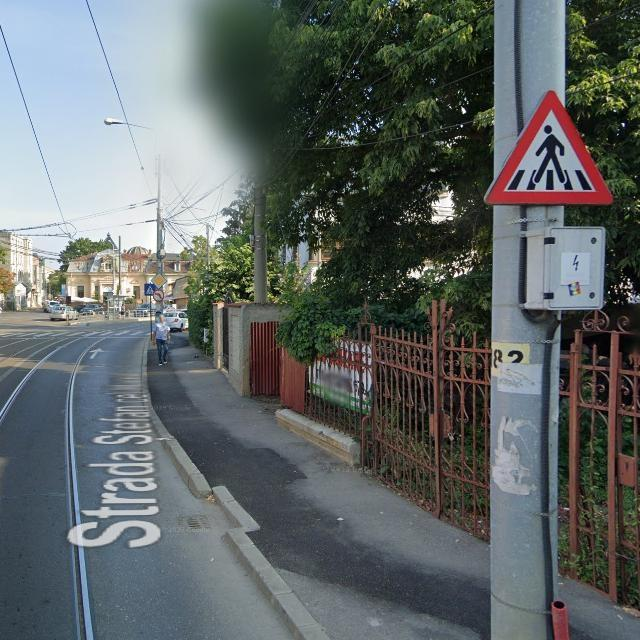warn_crosswalk: (481, 88, 616, 208)
